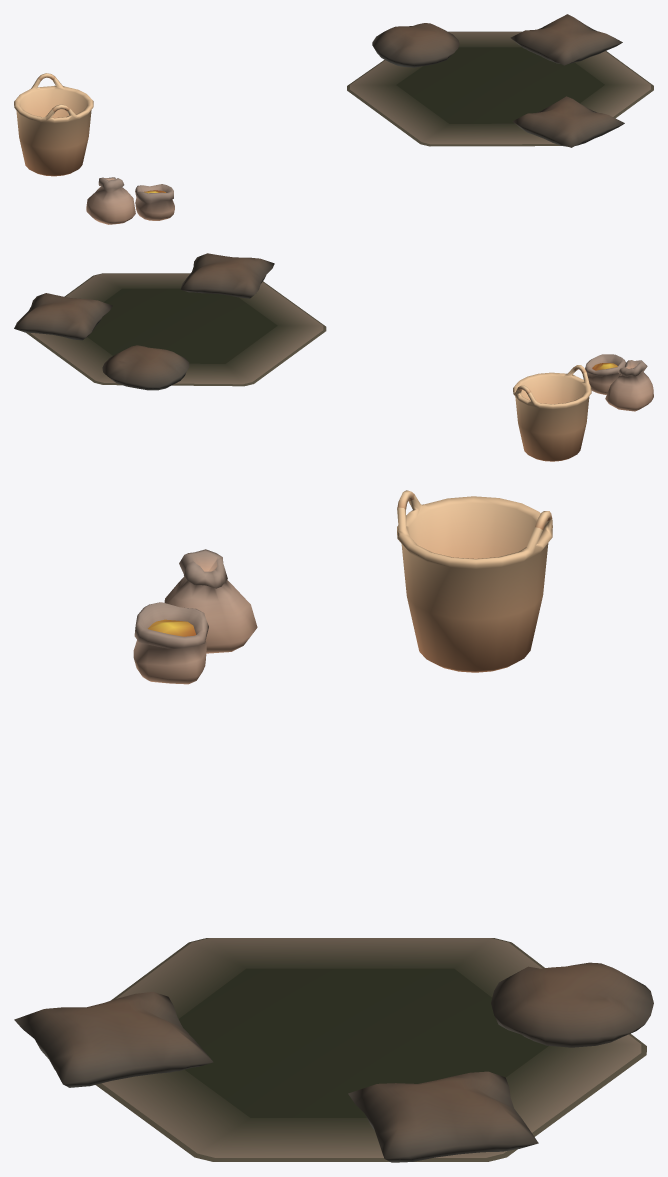
Rendered from dpmarket_interior-default.glb.
3 views of the same model, one above another, from view 1: azimuth 30°, elevation 25°; view 2: azimuth 150°, elevation 25°; view 3: azimuth 270°, elevation 25° (orthographic). The views are drawn at different scales.
Parts seen in each view (by area): view 1: Tent-rug.002, Tent-pillows.002, Tent-containers.002; view 2: Tent-rug.002, Tent-pillows.002, Tent-containers.002; view 3: Tent-rug.002, Tent-pillows.002, Tent-containers.002.
Boxes of the visible parts, left/top/right/bottom form: Tent-rug.002: left=347, top=31, right=653, bottom=146; Tent-pillows.002: left=372, top=14, right=624, bottom=147; Tent-containers.002: left=14, top=73, right=174, bottom=224; Tent-rug.002: left=26, top=273, right=326, bottom=386; Tent-pillows.002: left=14, top=253, right=274, bottom=390; Tent-containers.002: left=513, top=354, right=653, bottom=461; Tent-rug.002: left=96, top=938, right=646, bottom=1161; Tent-pillows.002: left=14, top=962, right=653, bottom=1162; Tent-containers.002: left=133, top=490, right=552, bottom=684.
Bounding box in the file's own units: 6.33 × 0.8129 × 3.09.
Materials: 1 (1 with a texture image).
